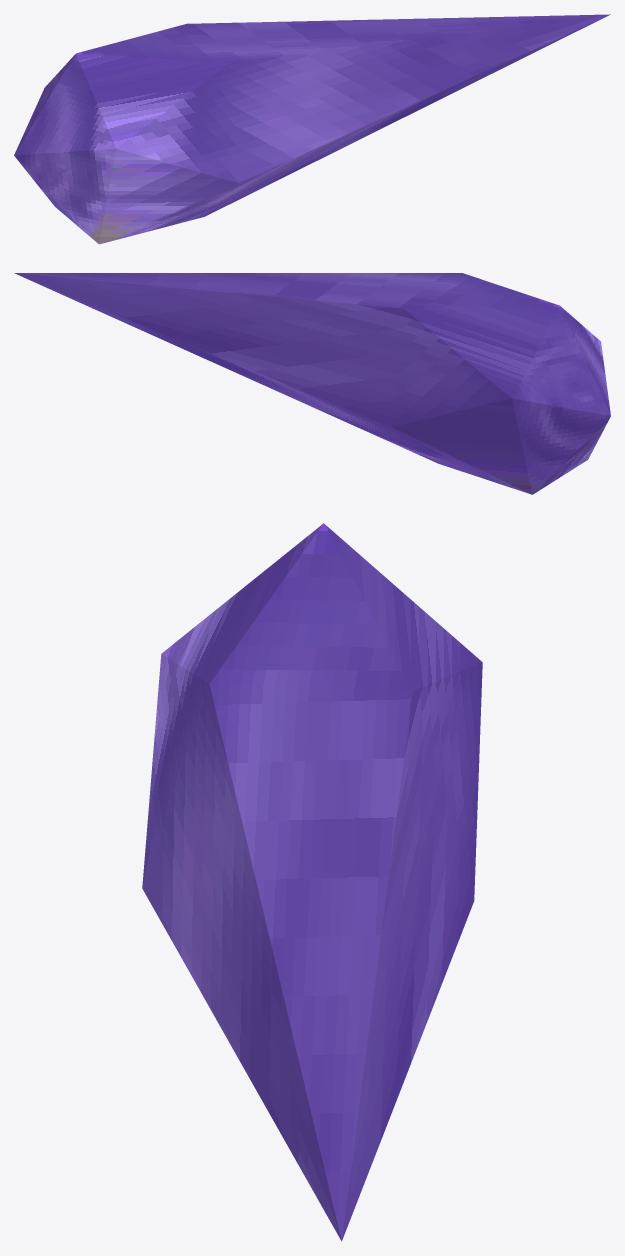
Rendered from Bullet.glb.
3 renders of one model, top to bottom at view 1: azimuth 30°, elevation 25°; view 2: azimuth 150°, elevation 25°; view 3: azimuth 270°, elevation 25°, orthographic. The views are drawn at different scales.
Visible parts, largest first — view 1: Icosphere.001; view 2: Icosphere.001; view 3: Icosphere.001.
Boxes of the visible parts, x1,y1,x2,y2 form: Icosphere.001: (14, 14, 610, 244); Icosphere.001: (14, 273, 610, 494); Icosphere.001: (142, 523, 482, 1241).
Bounding box in the file's own units: 0.5171 × 0.1584 × 0.1279.
1 material, 1 textured.
